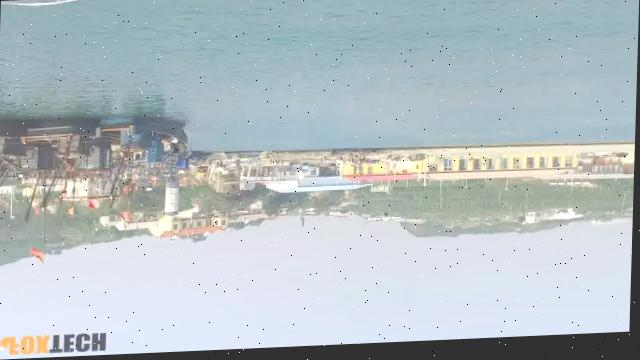drone: (350, 197, 430, 244)
